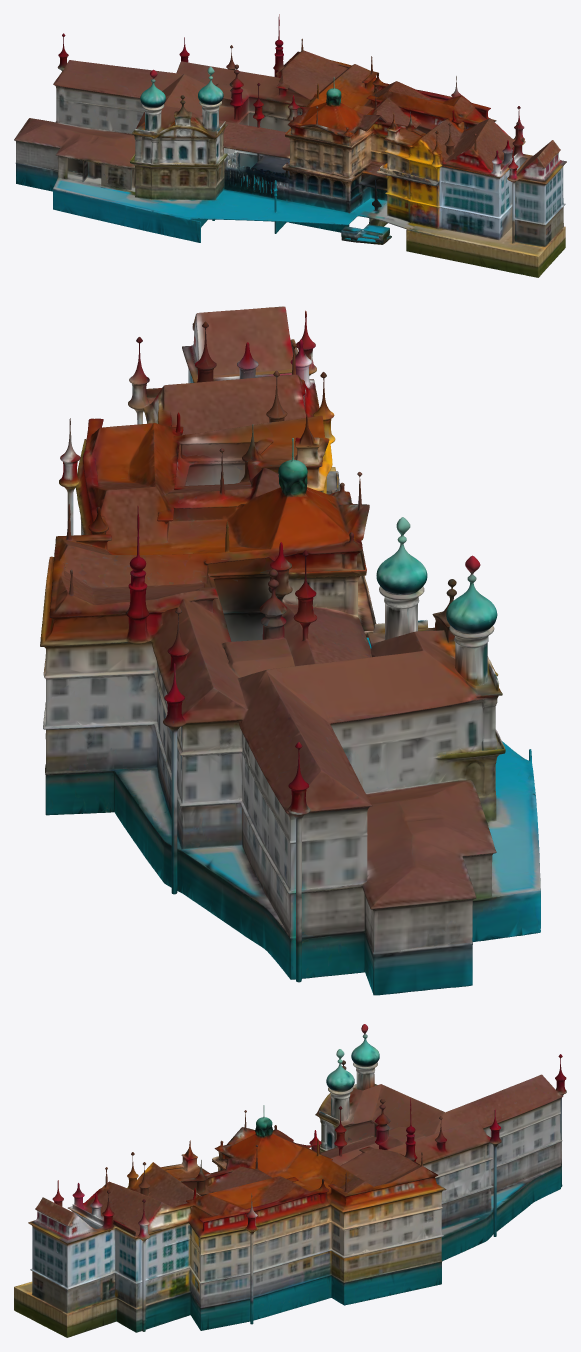
Rendered from switzerland.glb.
3 renders of one model, top to bottom at view 1: azimuth 30°, elevation 25°; view 2: azimuth 150°, elevation 25°; view 3: azimuth 270°, elevation 25°, orthographic. The views are drawn at different scales.
Parts seen in each view (by area): view 1: node_0; view 2: node_0; view 3: node_0.
Part boxes in pixels (x1,y1,x2,y2): node_0: [14, 14, 566, 277]; node_0: [40, 306, 540, 995]; node_0: [14, 1024, 566, 1337].
Size of the model in its own units: 0.8055 by 0.3358 by 0.9942.
1 material, 1 textured.
